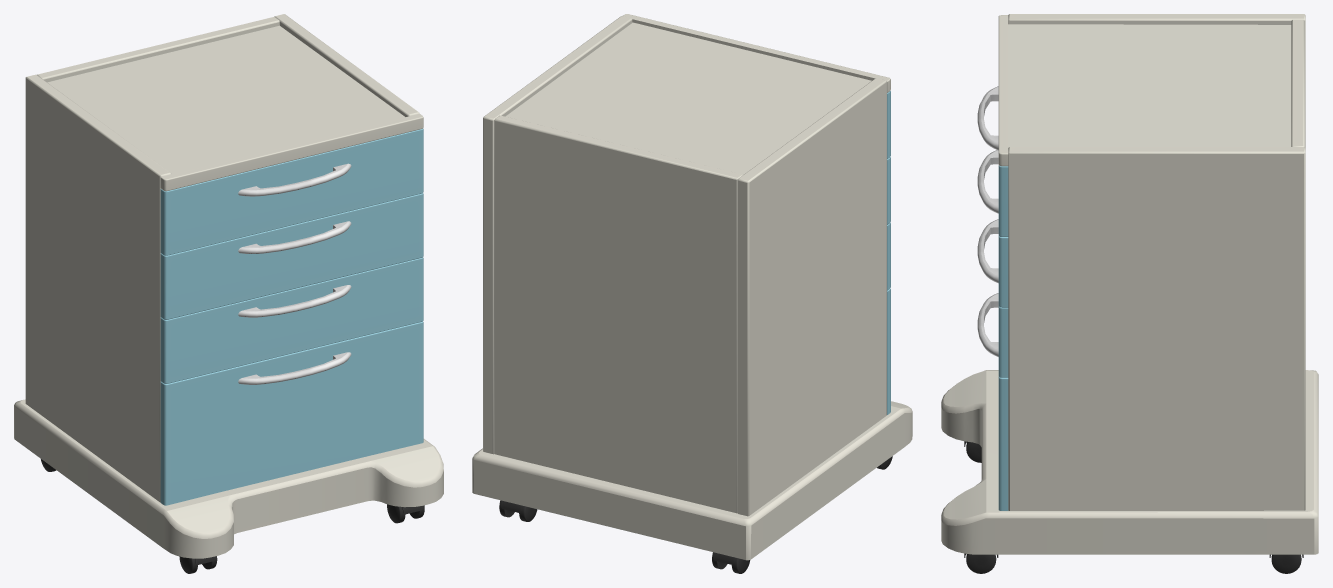
The model's file is SideTrolley.fbx.
3 views of the same model, side by side, from view 1: azimuth 30°, elevation 25°; view 2: azimuth 150°, elevation 25°; view 3: azimuth 270°, elevation 25° (orthographic). The views are drawn at different scales.
Parts seen in each view (by area): view 1: SideTrolley1; view 2: SideTrolley1; view 3: SideTrolley1.
Boxes of the visible parts, left/top/right/bottom form: SideTrolley1: left=14, top=14, right=443, bottom=573; SideTrolley1: left=472, top=14, right=912, bottom=573; SideTrolley1: left=941, top=14, right=1318, bottom=573.
Bounding box in the file's own units: 62.84 × 86.47 × 68.86.
